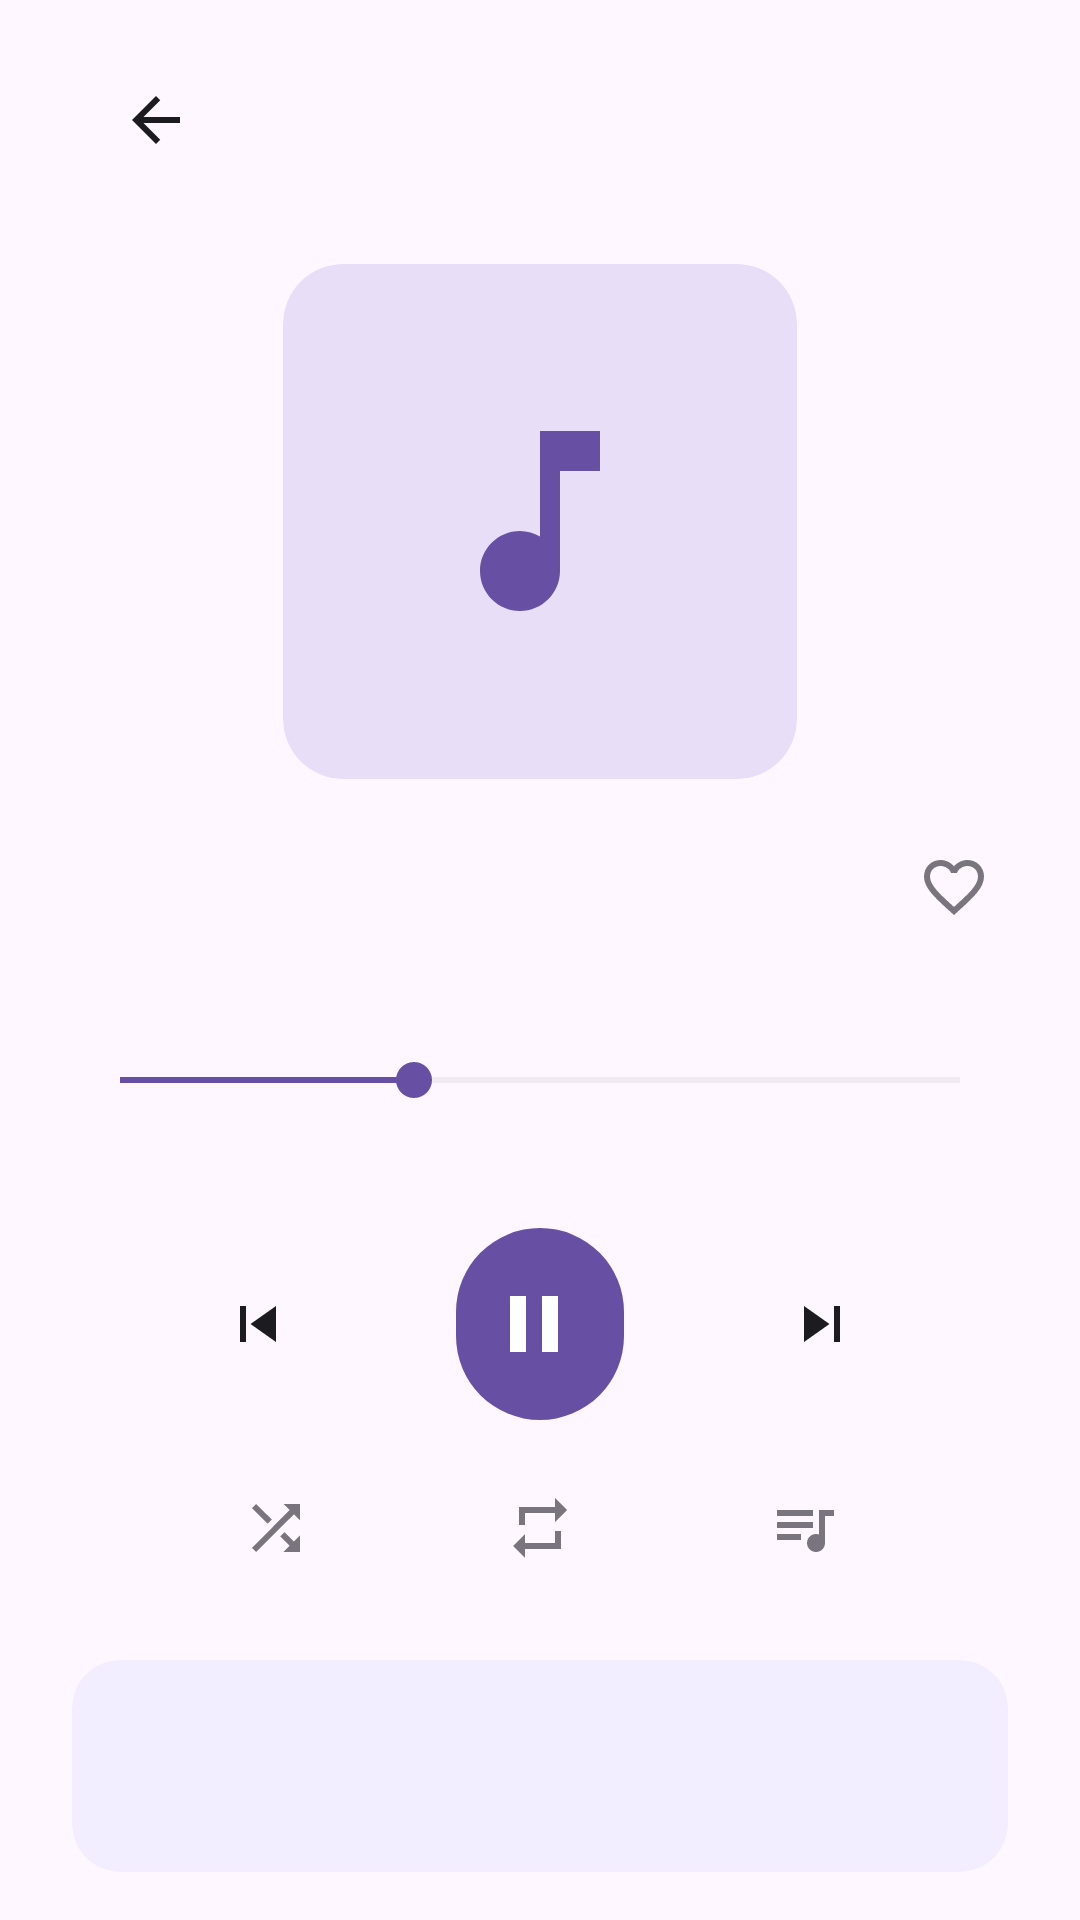

Icon click points for this 1080x1920 phone screenshot, format [x,y]:
Aleatorio: [276,1528]
Anterior: [258,1324]
Cola: [805,1531]
Favorito: [954,887]
pause: [540,1324]
Portada: [540,521]
Repetir: [540,1528]
Siguiente: [822,1324]
